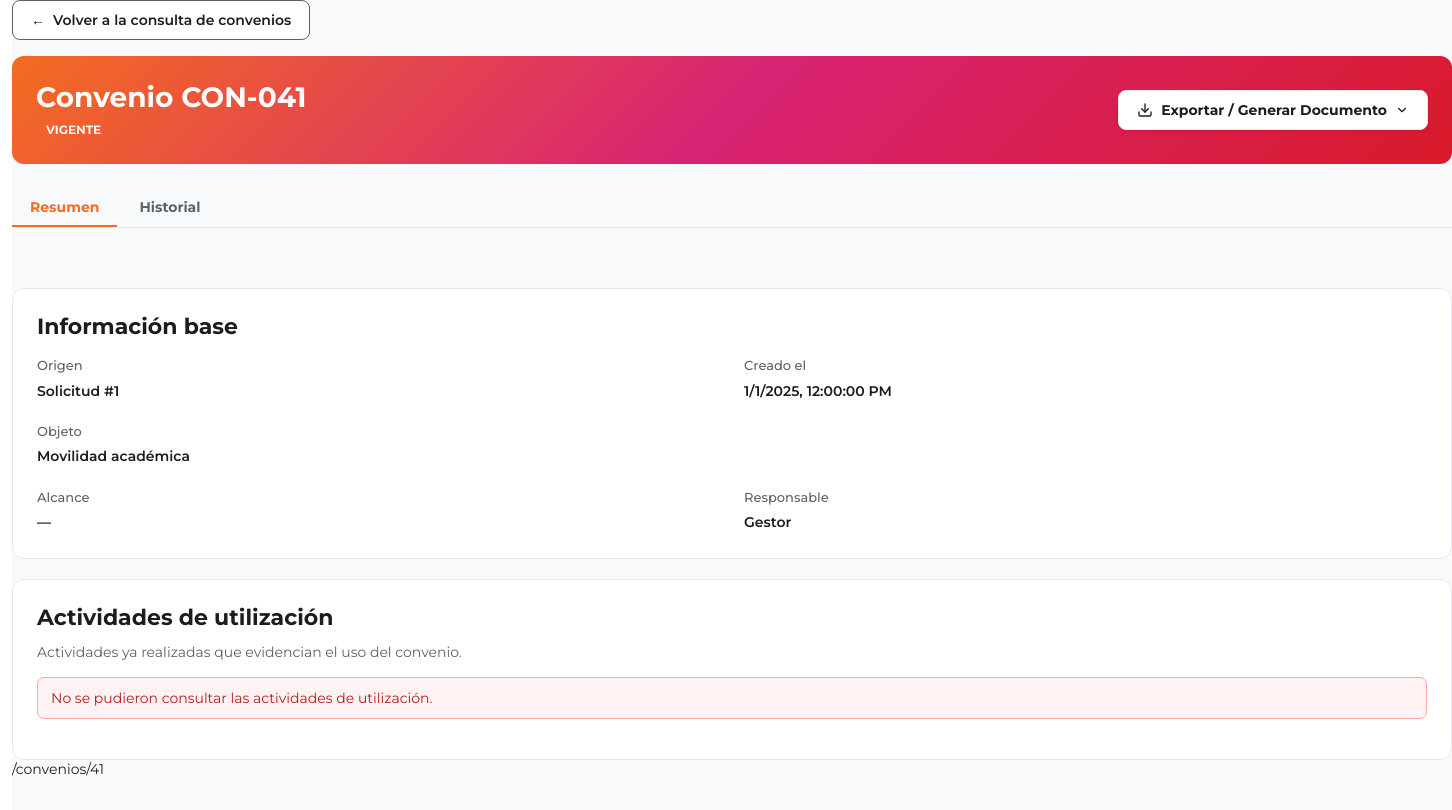
pestañas del detalle del convenio › cambia a Historial, lo refleja en la URL y muestra la línea de tiempo antes de las observaciones
What coordinates should you click on to do the following:
click the tab "Historial"
I would click on:
 (170, 208)
Its box is [121,188,218,228].
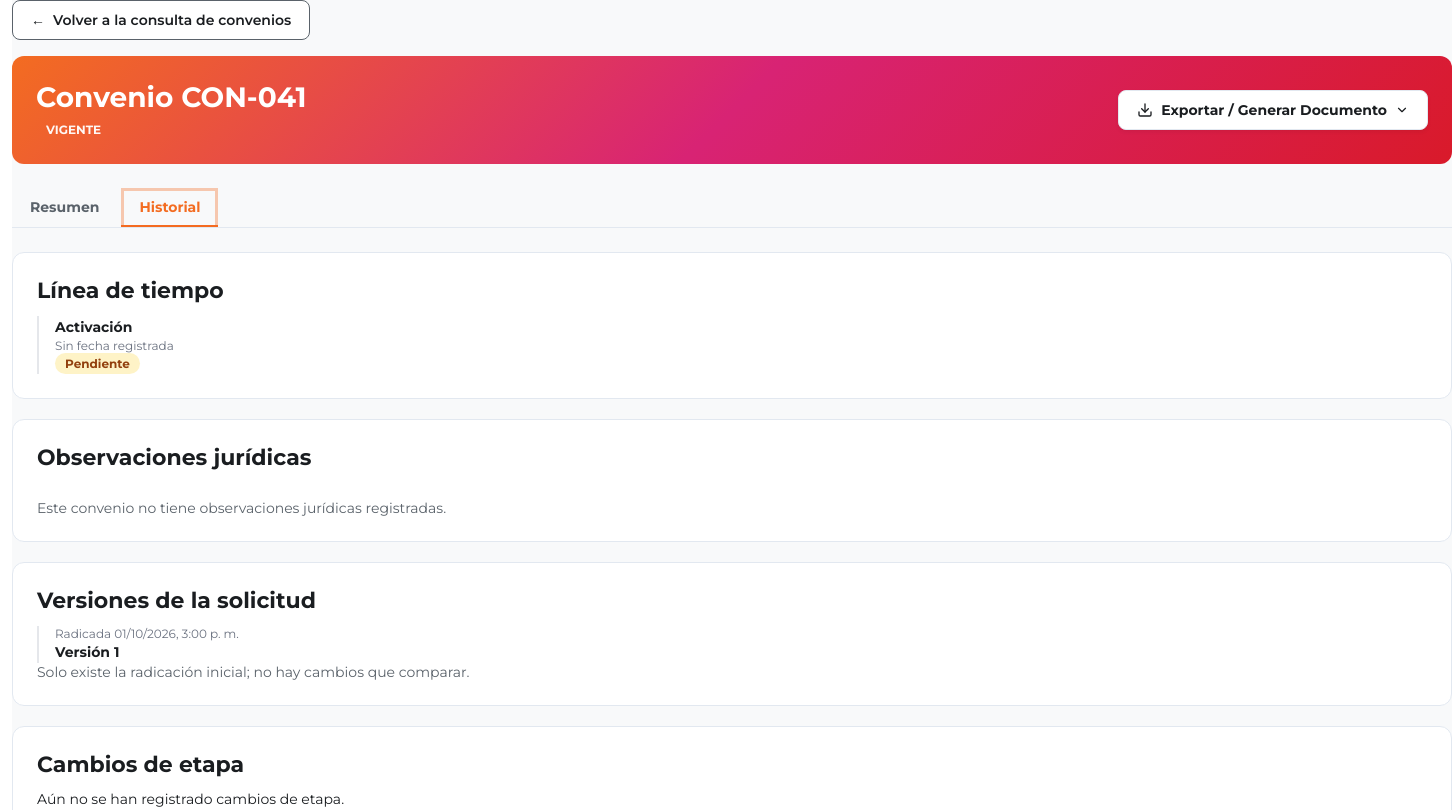
Now the text "Activación" is shown, box [55,318,132,336]
Now the text "Solo existe la radicación inicial; no hay cambios que comparar." is shown, box [37,663,470,681]
